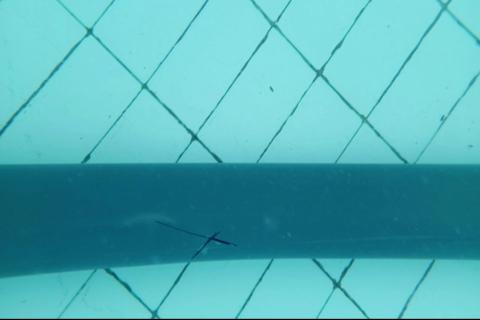keretakan: (154, 217, 238, 259)
